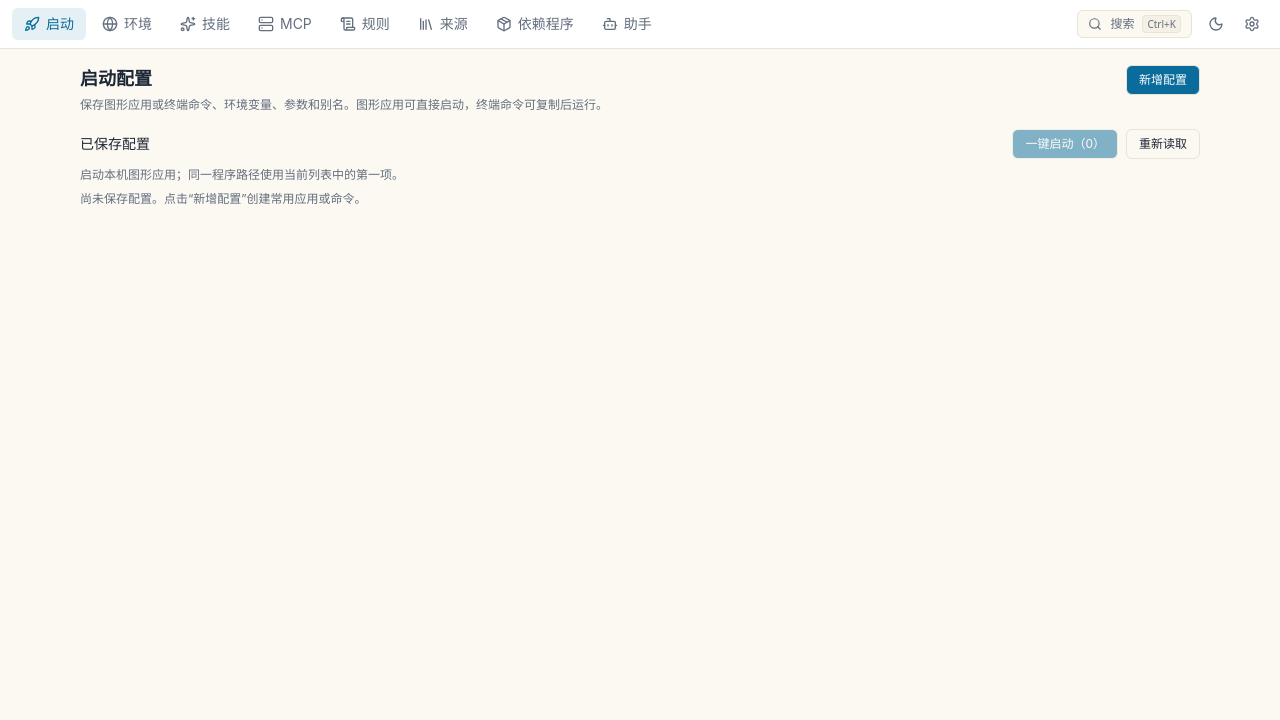
Test: App 顶层导航 › keeps extension resource navigation without the global inbox
// 顶栏一键切换浅色 / 深色，只改界面，不调用引擎
Click the button with test id "theme-toggle" at (1216, 24), box [1200,8,1232,40]
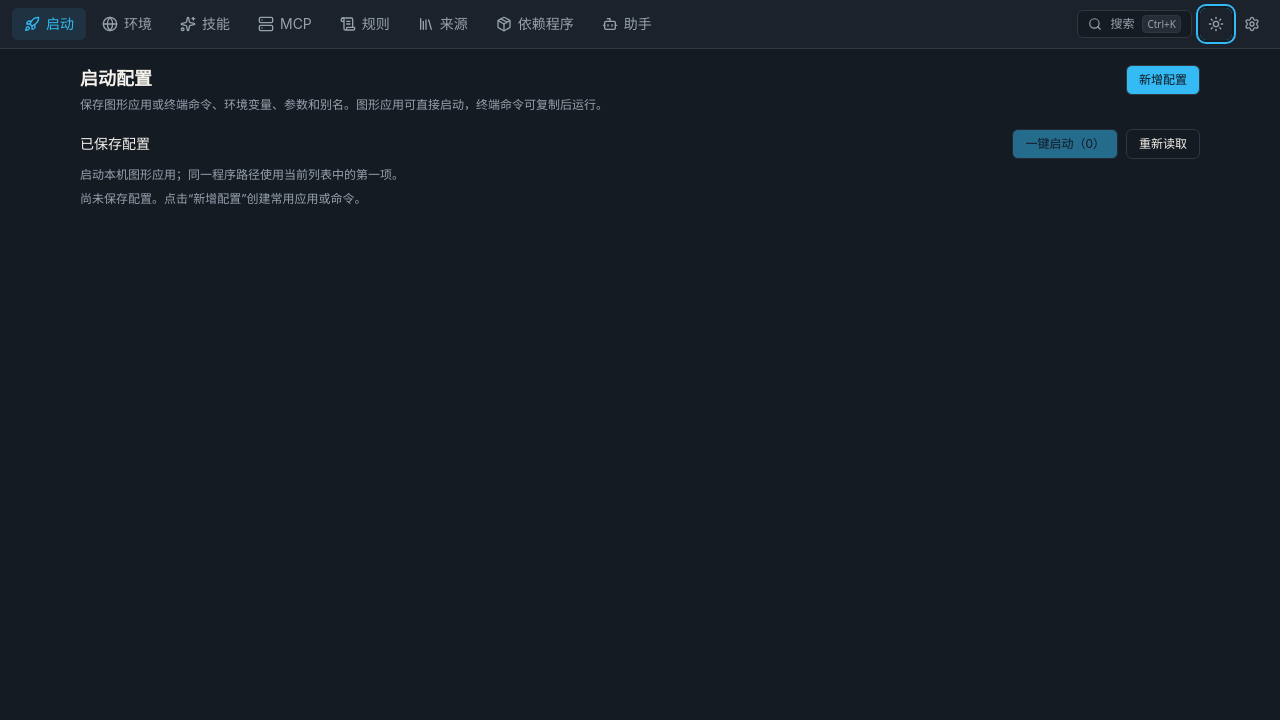
Click the button with test id "theme-toggle" at (1216, 24), box [1200,8,1232,40]
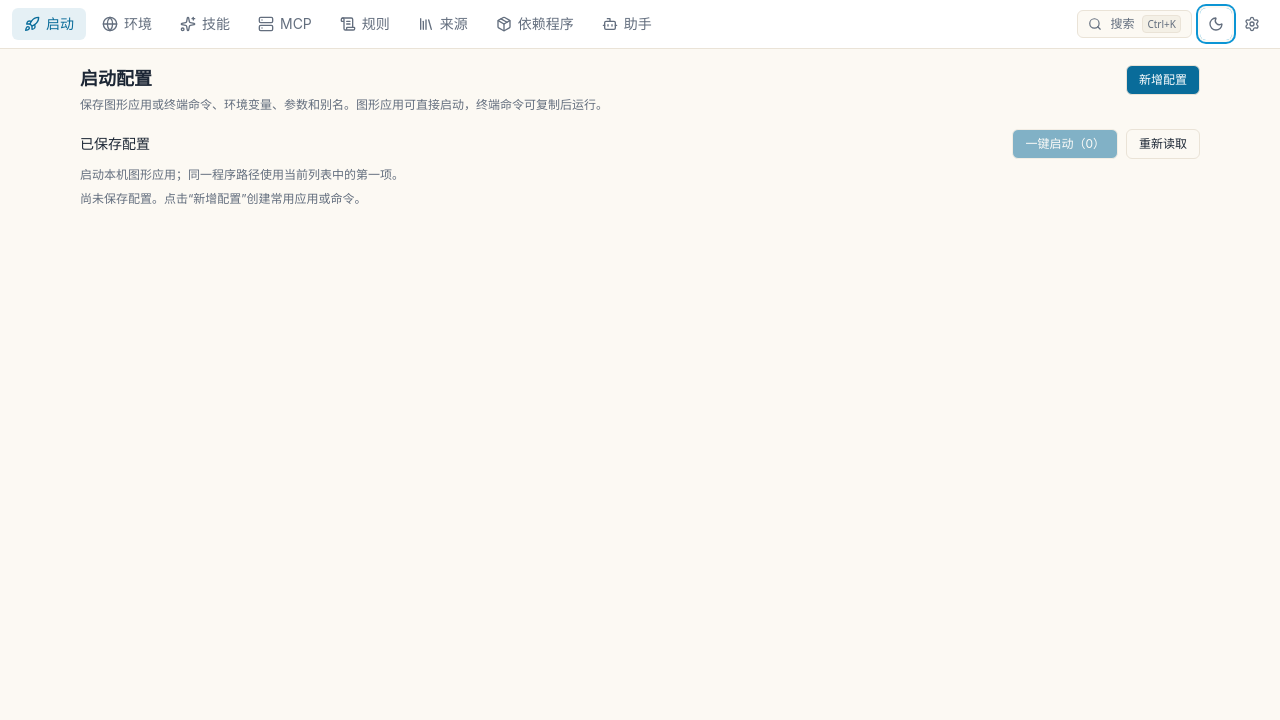
Expected: the heading "启动配置" is shown, [80,68,152,89]
Click the button "技能" at (205, 24), box [168,8,242,40]
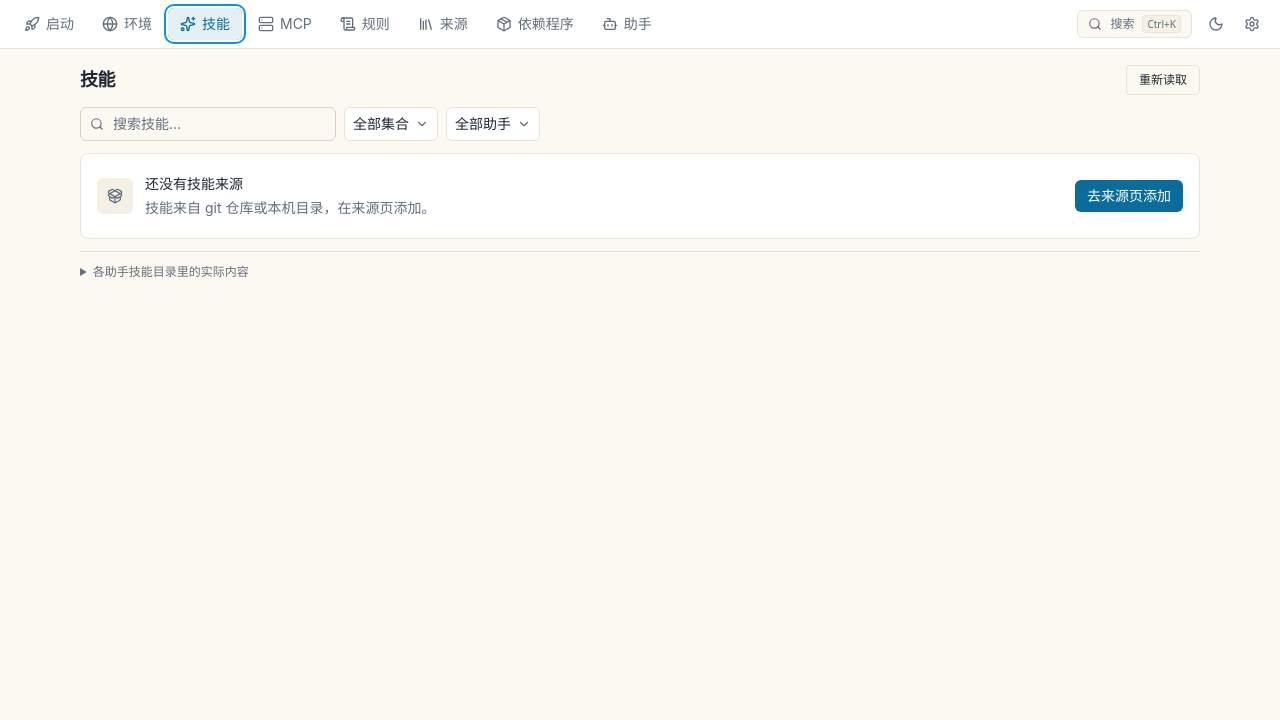
Expected: the heading "技能" is shown, [80,66,115,94]
Click the button named "设置" at (1252, 24), box [1236,10,1268,38]
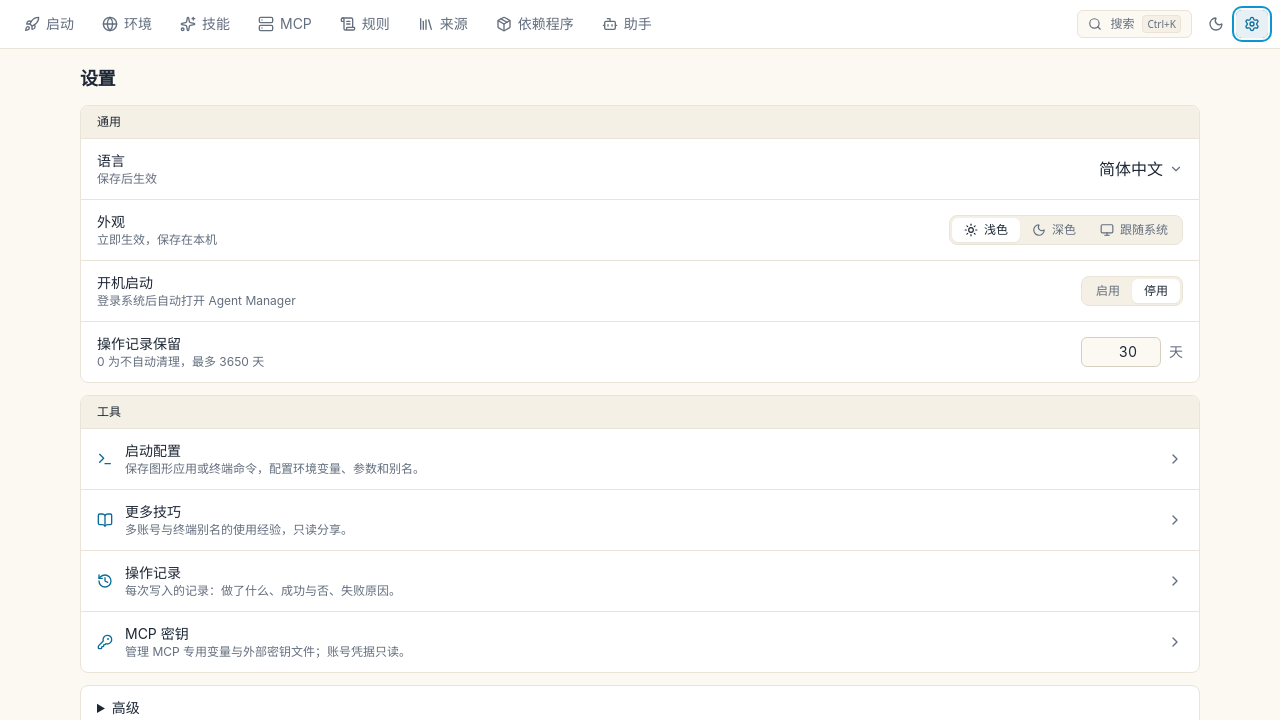
Expected: the heading "设置" is shown, [80,68,115,89]
Click the button with test id "advanced-entry-launch" at (153, 450), box [81,429,1199,489]
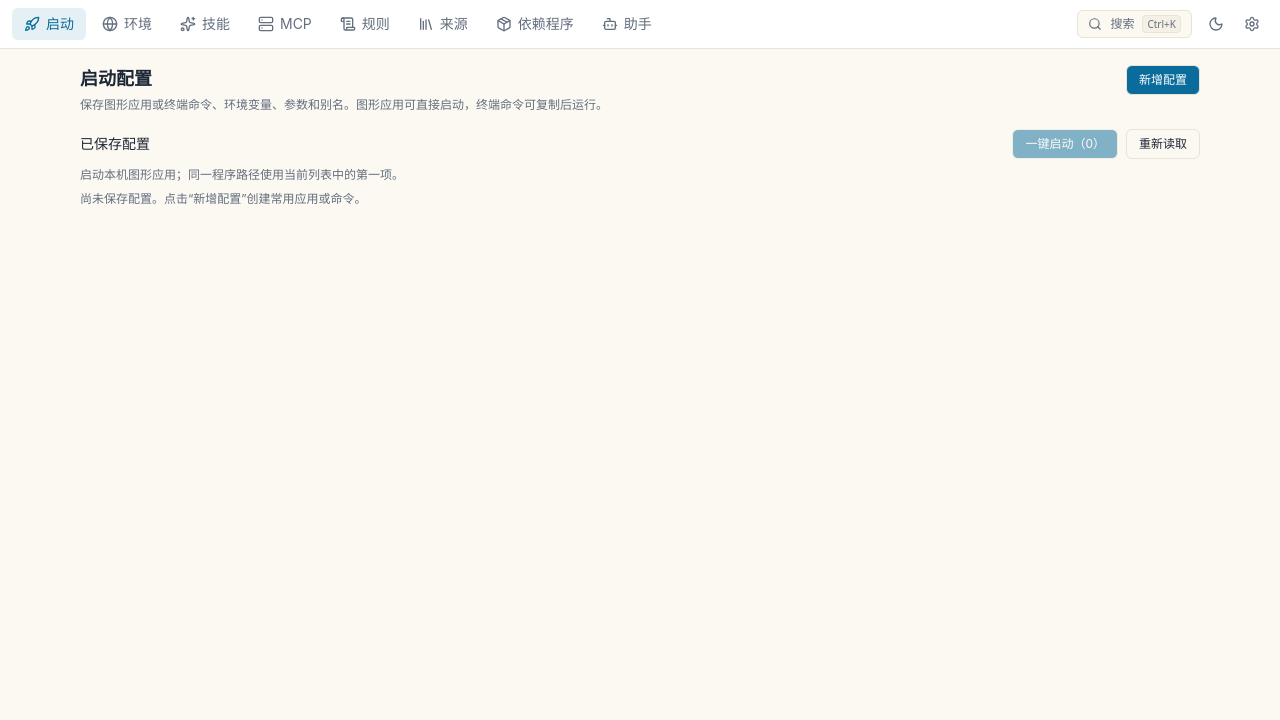
Expected: the heading "启动配置" is shown, [80,68,152,89]
Click the button "规则" at (365, 24), box [328,8,402,40]
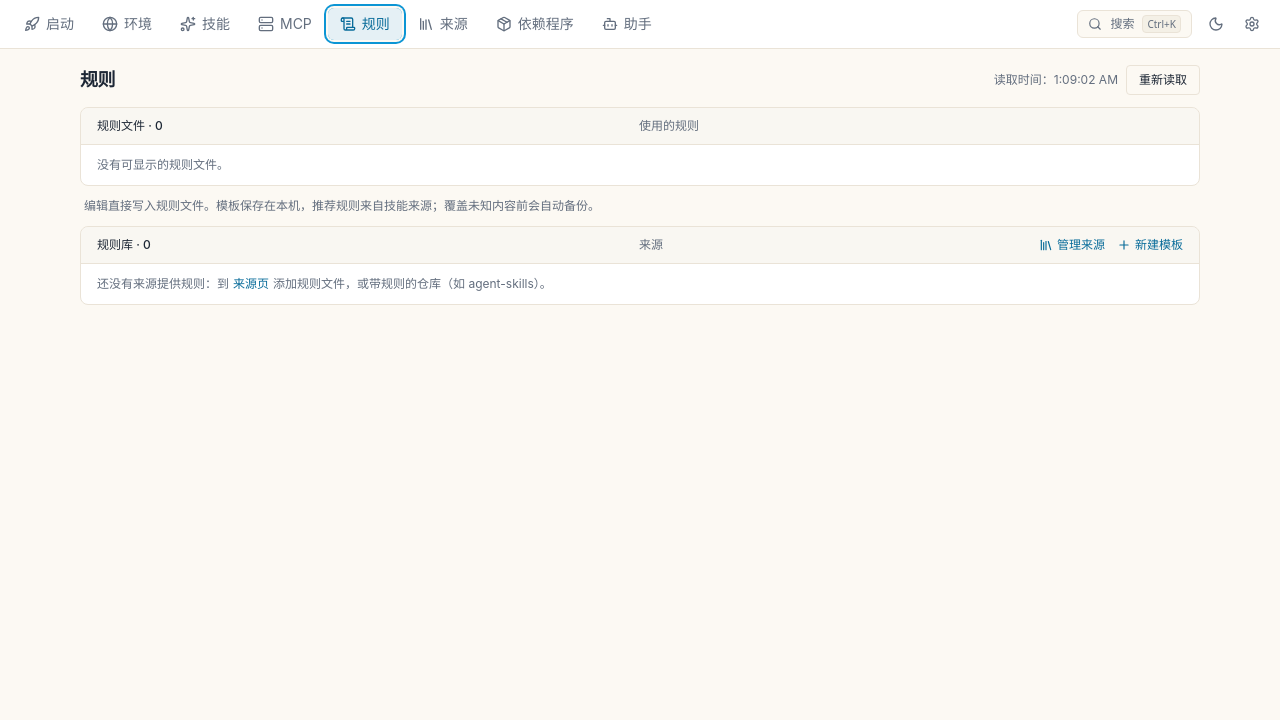
Expected: the heading "规则" is shown, [80,66,115,94]
